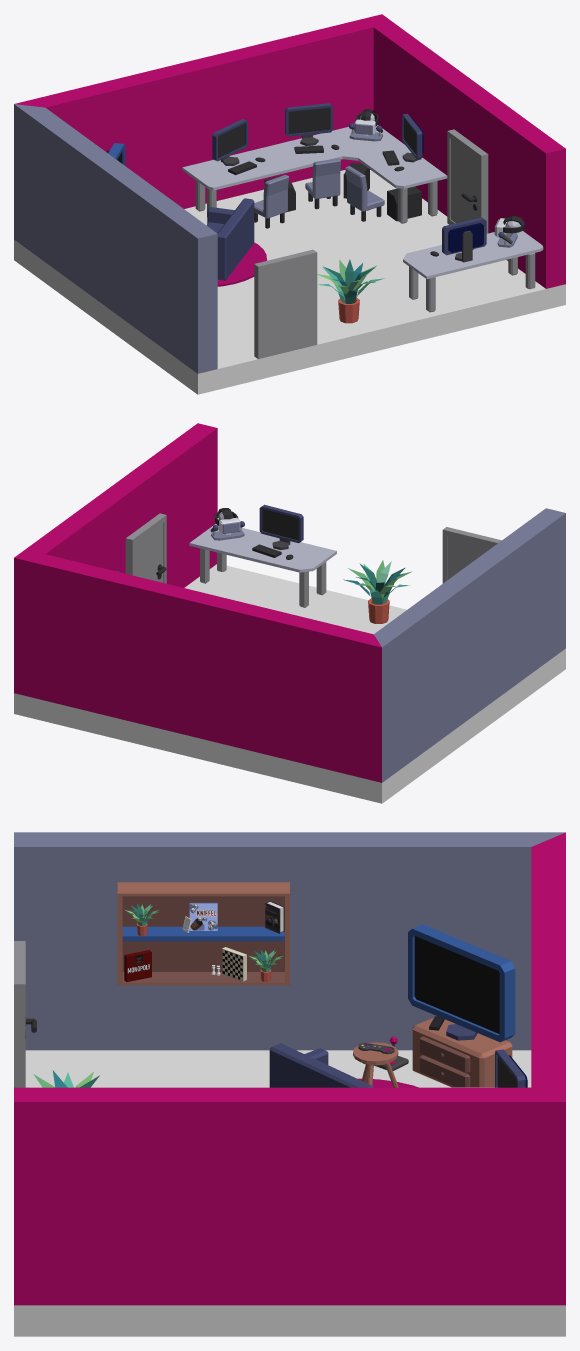
Rendered from Scene_5_GameLab.fbx.
The picture shows the model from 3 angles, top to bottom: view 1: azimuth 30°, elevation 25°; view 2: azimuth 150°, elevation 25°; view 3: azimuth 270°, elevation 25°; orthographic projection. The views are drawn at different scales.
Parts seen in each view (by area): view 1: WallsGameLab, BodenGameLab, EckTisch, Door Entry.001, FrontTisch, Door Entry, Couch, Pflanze GameLab, Monitor.001, Monitor.003, Stuhl.002, Monitor.002 (+7 smaller); view 2: WallsGameLab, BodenGameLab, FrontTisch, Door Entry, Door Entry.001, Pflanze GameLab, Monitor.003, VR Brille.001; view 3: WallsGameLab, BodenGameLab, Regal Brochures.001, Fernseher, Couch, Door Entry.001, Hocker, Monitor.002, BoardGameKniffel, BoardGameMonopoly, BoardGameChess.
Part boxes in pixels (x1,y1,x2,y2): WallsGameLab: (14, 14, 565, 373); BodenGameLab: (14, 170, 565, 394); EckTisch: (182, 125, 447, 223); Door Entry.001: (254, 249, 317, 359); FrontTisch: (403, 231, 543, 312); Door Entry: (447, 129, 488, 233); Couch: (207, 198, 254, 280); Pflanze GameLab: (317, 259, 384, 323); Monitor.001: (285, 103, 332, 145); Monitor.003: (442, 217, 486, 262); Stuhl.002: (305, 158, 340, 209); Monitor.002: (212, 119, 247, 165); WallsGameLab: (14, 423, 565, 782); BodenGameLab: (14, 564, 565, 803); FrontTisch: (189, 524, 336, 607); Door Entry: (125, 513, 166, 583); Door Entry.001: (442, 527, 501, 583); Pflanze GameLab: (343, 560, 411, 623); Monitor.003: (259, 504, 303, 549); VR Brille.001: (210, 508, 244, 540); WallsGameLab: (14, 832, 565, 1305); BodenGameLab: (14, 1050, 565, 1336); Regal Brochures.001: (117, 882, 289, 985); Fernseher: (408, 924, 515, 1087); Couch: (269, 1043, 373, 1087); Door Entry.001: (14, 941, 36, 1087); Hocker: (353, 1042, 398, 1087); Monitor.002: (495, 1049, 527, 1087); BoardGameKniffel: (189, 902, 217, 930); BoardGameMonopoly: (124, 950, 151, 982); BoardGameChess: (222, 947, 246, 981).
Bounding box in the file's own units: 1850 × 750 × 1600.
5 materials, 5 textured.
